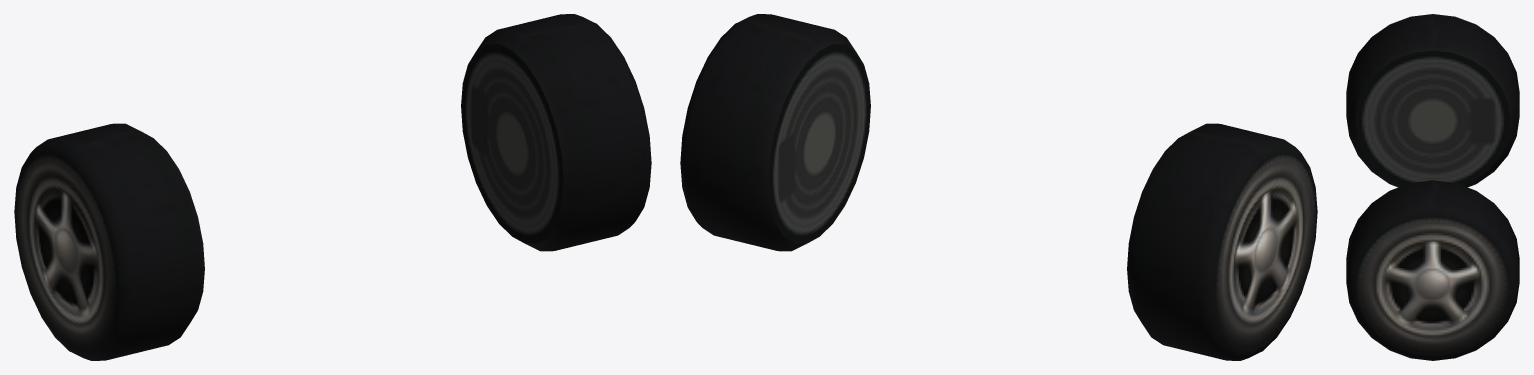
The model's file is gt_liftback_97_wheels_r.obj.
The picture shows the model from 3 angles, left to right: view 1: azimuth 30°, elevation 25°; view 2: azimuth 150°, elevation 25°; view 3: azimuth 270°, elevation 25°; orthographic projection. The views are drawn at different scales.
Parts seen in each view (by area): view 1: gt_liftback_97_wheels_r; view 2: gt_liftback_97_wheels_r; view 3: gt_liftback_97_wheels_r.
Part boxes in pixels (box(x1,y1,x2,y2)): gt_liftback_97_wheels_r: box(14, 14, 651, 360); gt_liftback_97_wheels_r: box(680, 14, 1317, 360); gt_liftback_97_wheels_r: box(1346, 14, 1519, 360).
Size of the model in its own units: 1.8 by 0.6693 by 0.6693.
